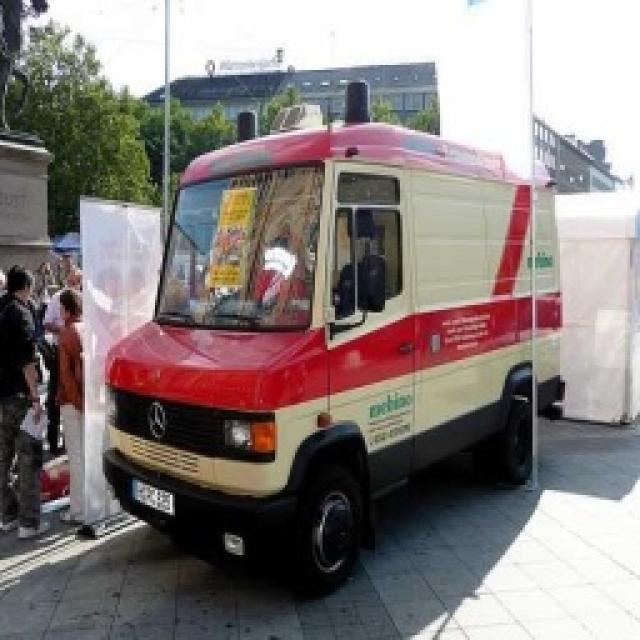emergency-vehicle: (108, 113, 584, 519)
